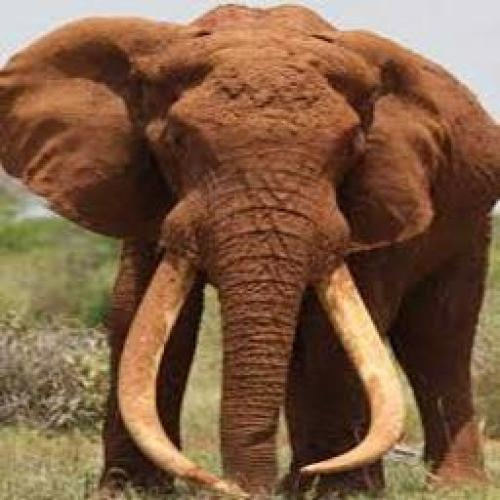african_elephant-endangered: (13, 5, 500, 500)
